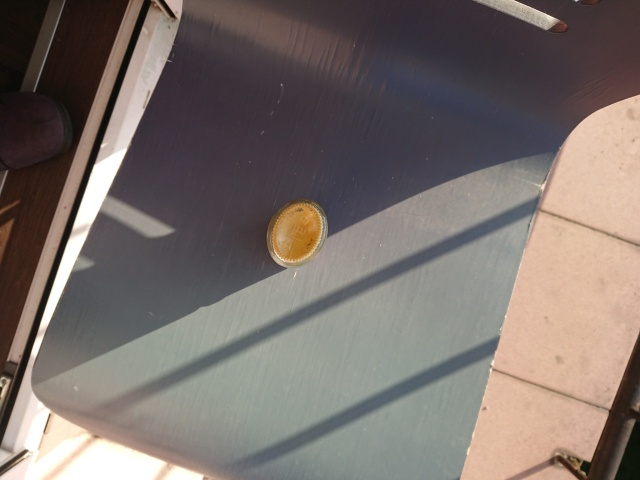Kotanyi Curry Spices Mix 70g: (263, 197, 330, 271)
